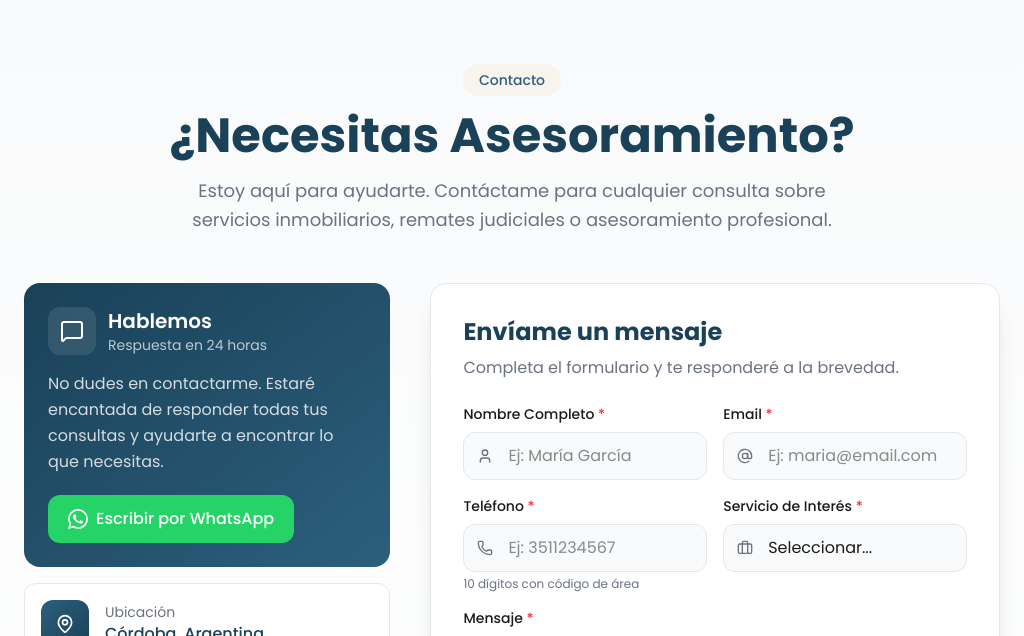
Test: Contact Form › validates name minimum length
In the field with placeholder "Ej: María García": {"x": 585, "y": 456} x1=463 y1=432 x2=707 y2=480, type "ab"
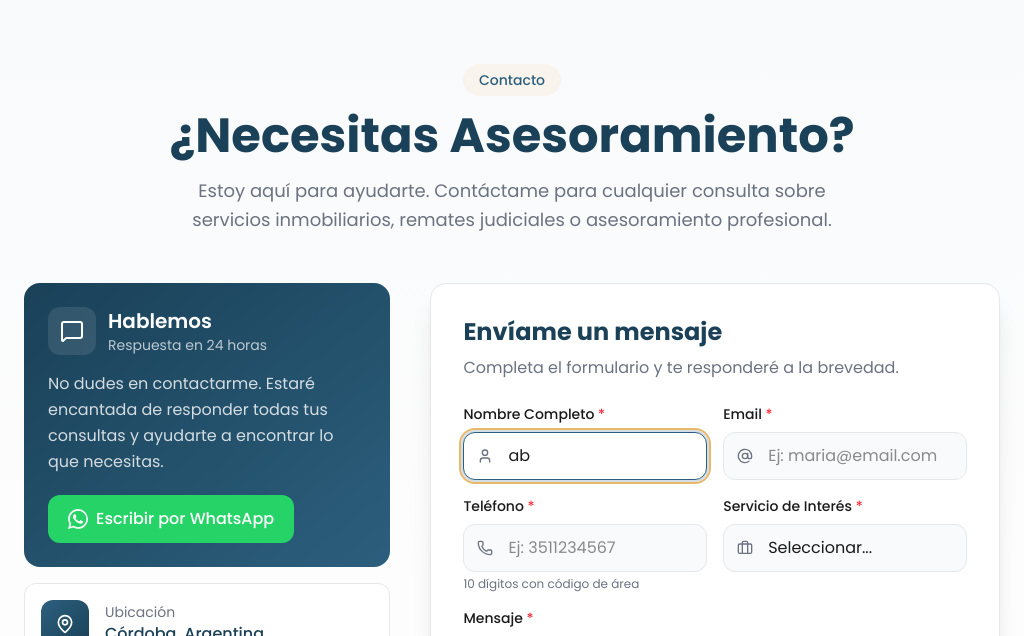
Press Tab
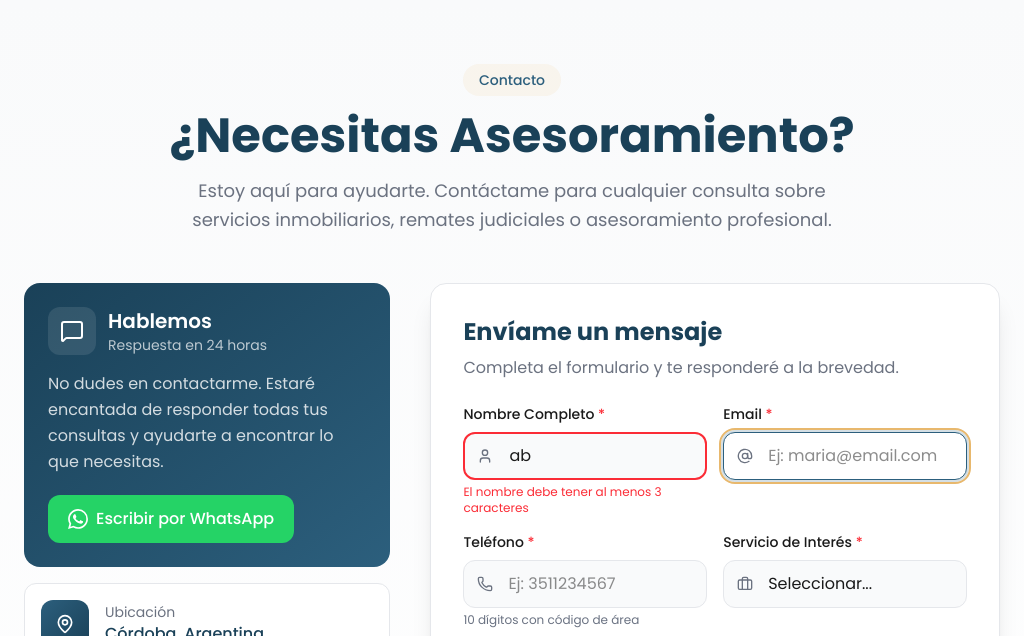
expect the text "El nombre debe tener al menos 3 caracteres" is shown: met, box x1=463 y1=482 x2=662 y2=516
